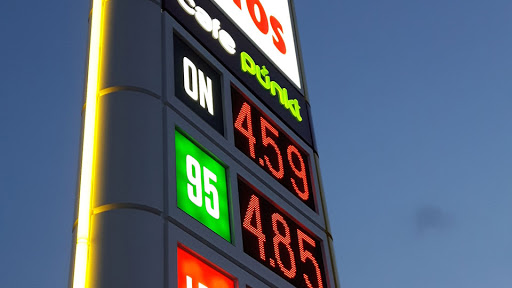ON: (170, 33, 225, 121)
PB95: (171, 128, 236, 239)
